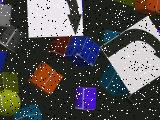Right: (100, 15, 160, 94), (27, 0, 83, 38)
